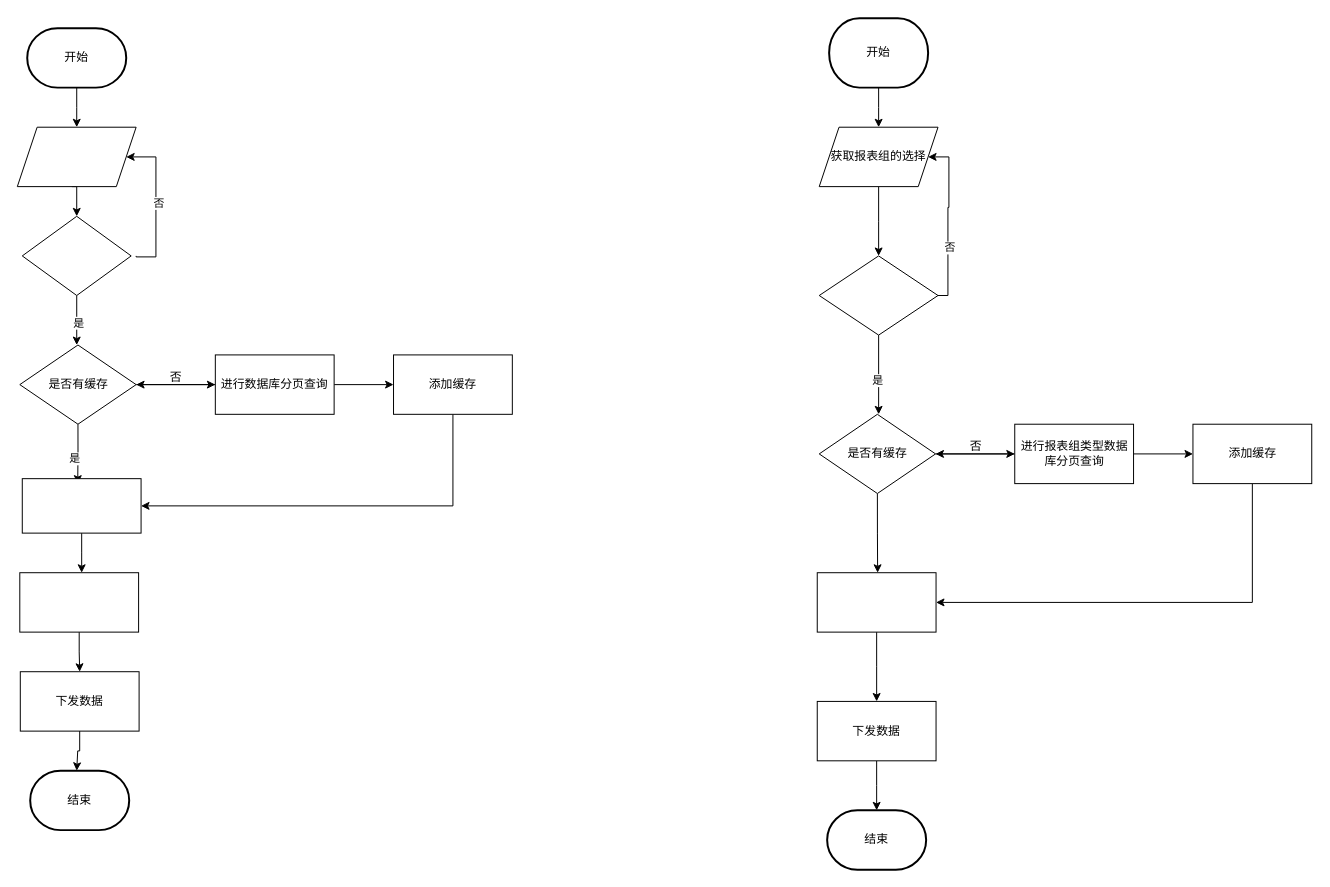
The diagram is 1330 pixels wide and 887 high, and some of its shapes have lost their labels. The shapes that lost their labels are listed below. From the top down, each one's centre as x and y in pixels, then its label:
pixel 76 156: 获取条件和数量
pixel 76 255: 输入是否合法
pixel 878 295: 选择是否合法
pixel 81 505: 获取报表组类型列表 数据
pixel 79 602: 组装列表者数据
pixel 876 602: 组装报表组信息
